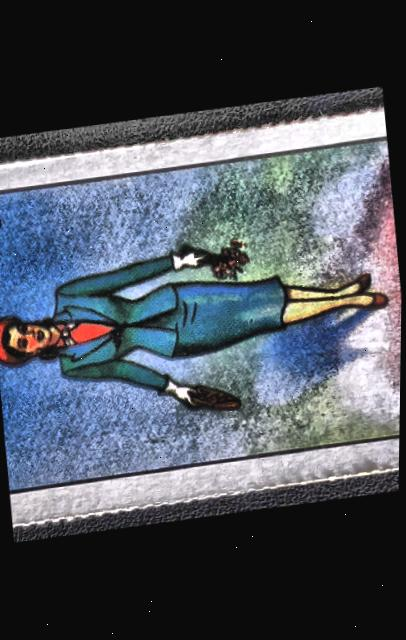La Dama: (0, 123, 404, 508)
